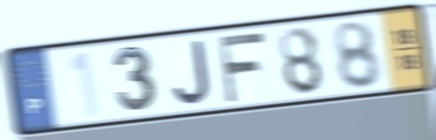1: (68, 50, 100, 119)
3: (111, 43, 159, 115)
8: (331, 19, 383, 91), (276, 25, 325, 97)
F: (214, 29, 269, 106)
J: (171, 37, 215, 107)
